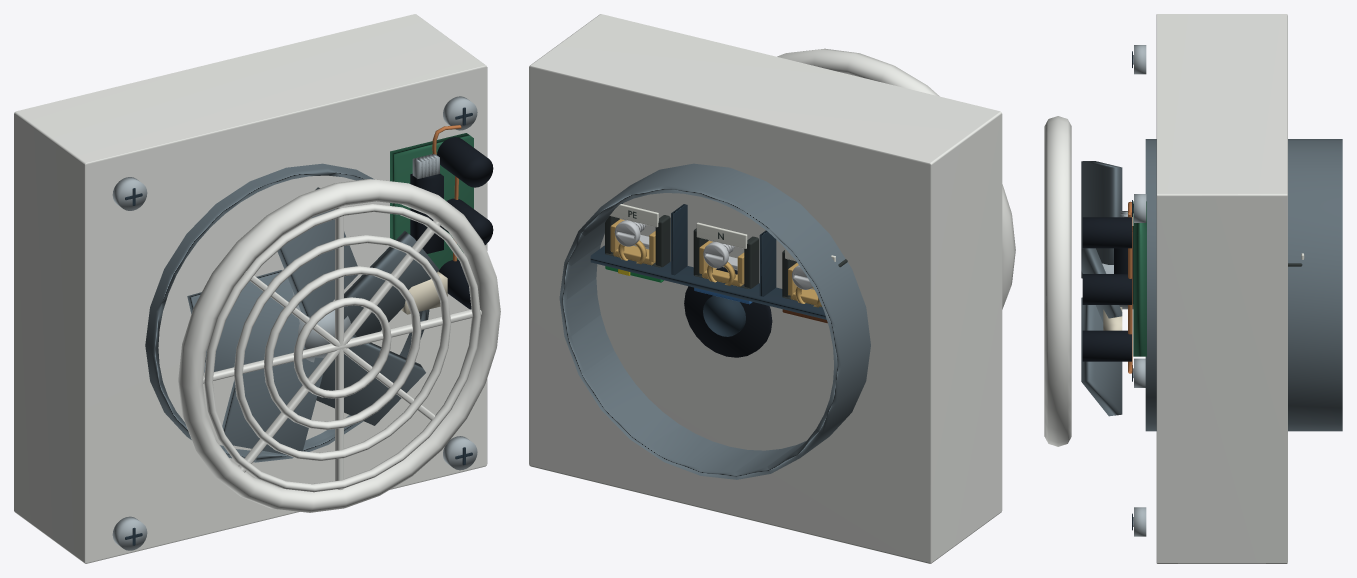
Rendered from fan_default.glb.
3 views of the same model, side by side, from view 1: azimuth 30°, elevation 25°; view 2: azimuth 150°, elevation 25°; view 3: azimuth 270°, elevation 25° (orthographic). The views are drawn at different scales.
Visible parts, largest first — view 1: part:body, part:cover · Original 7dbee62c, motion:rotor · Original 0905ee26, part:electronics · Original 3ff2d46d, part:electronics, part:mounting · Original 2a8198d3, motion:rotor; view 2: part:body, part:terminals · Original a463fd81, part:cover · Original 7dbee62c, part:winding · Original 3ff2d46d, part:winding, detail:terminal-clamp:N · Detail moulded engineering polymer, detail:terminal-clamp:PE · Detail moulded engineering polyme, detail:terminal-clamp:PE · Detail machined brass, detail:terminal-clamp:N · Detail machined brass, Moulded terminal legend pad.001, detail:terminal-clamp:PE · Detail zinc plated fixing, detail:terminal-clamp:N · Detail zinc plated fixing (+1 smaller); view 3: part:body, part:cover · Original 7dbee62c, motion:rotor · Original 0905ee26, part:electronics · Original 3ff2d46d, part:electronics, part:mounting · Original 2a8198d3, part:electronics · Original db0da9ae.
Boxes of the visible parts, x1=… form: part:body: x1=14, y1=14, x2=487, y2=563; part:cover · Original 7dbee62c: x1=178, y1=179, x2=500, y2=512; motion:rotor · Original 0905ee26: x1=187, y1=187, x2=439, y2=454; part:electronics · Original 3ff2d46d: x1=410, y1=137, x2=493, y2=309; part:electronics: x1=390, y1=133, x2=473, y2=314; part:mounting · Original 2a8198d3: x1=112, y1=96, x2=477, y2=550; motion:rotor: x1=292, y1=289, x2=350, y2=362; part:body: x1=529, y1=14, x2=1002, y2=563; part:terminals · Original a463fd81: x1=590, y1=204, x2=826, y2=319; part:cover · Original 7dbee62c: x1=777, y1=48, x2=1015, y2=309; part:winding · Original 3ff2d46d: x1=684, y1=267, x2=772, y2=357; part:winding: x1=703, y1=295, x2=745, y2=336; detail:terminal-clamp:N · Detail moulded engineering polymer: x1=693, y1=228, x2=758, y2=288; detail:terminal-clamp:PE · Detail moulded engineering polyme: x1=605, y1=215, x2=670, y2=267; detail:terminal-clamp:PE · Detail machined brass: x1=610, y1=219, x2=655, y2=265; detail:terminal-clamp:N · Detail machined brass: x1=699, y1=241, x2=744, y2=286; Moulded terminal legend pad.001: x1=696, y1=222, x2=747, y2=248; detail:terminal-clamp:PE · Detail zinc plated fixing: x1=614, y1=220, x2=649, y2=247; detail:terminal-clamp:N · Detail zinc plated fixing: x1=703, y1=242, x2=737, y2=269; part:body: x1=1145, y1=14, x2=1342, y2=563; part:cover · Original 7dbee62c: x1=1044, y1=116, x2=1071, y2=446; motion:rotor · Original 0905ee26: x1=1081, y1=161, x2=1122, y2=416; part:electronics · Original 3ff2d46d: x1=1082, y1=217, x2=1133, y2=361; part:electronics: x1=1103, y1=201, x2=1146, y2=356; part:mounting · Original 2a8198d3: x1=1134, y1=45, x2=1146, y2=536; part:electronics · Original db0da9ae: x1=1128, y1=201, x2=1132, y2=373.
Size of the model in its own units: 0.9231 by 0.8786 by 0.6412.
